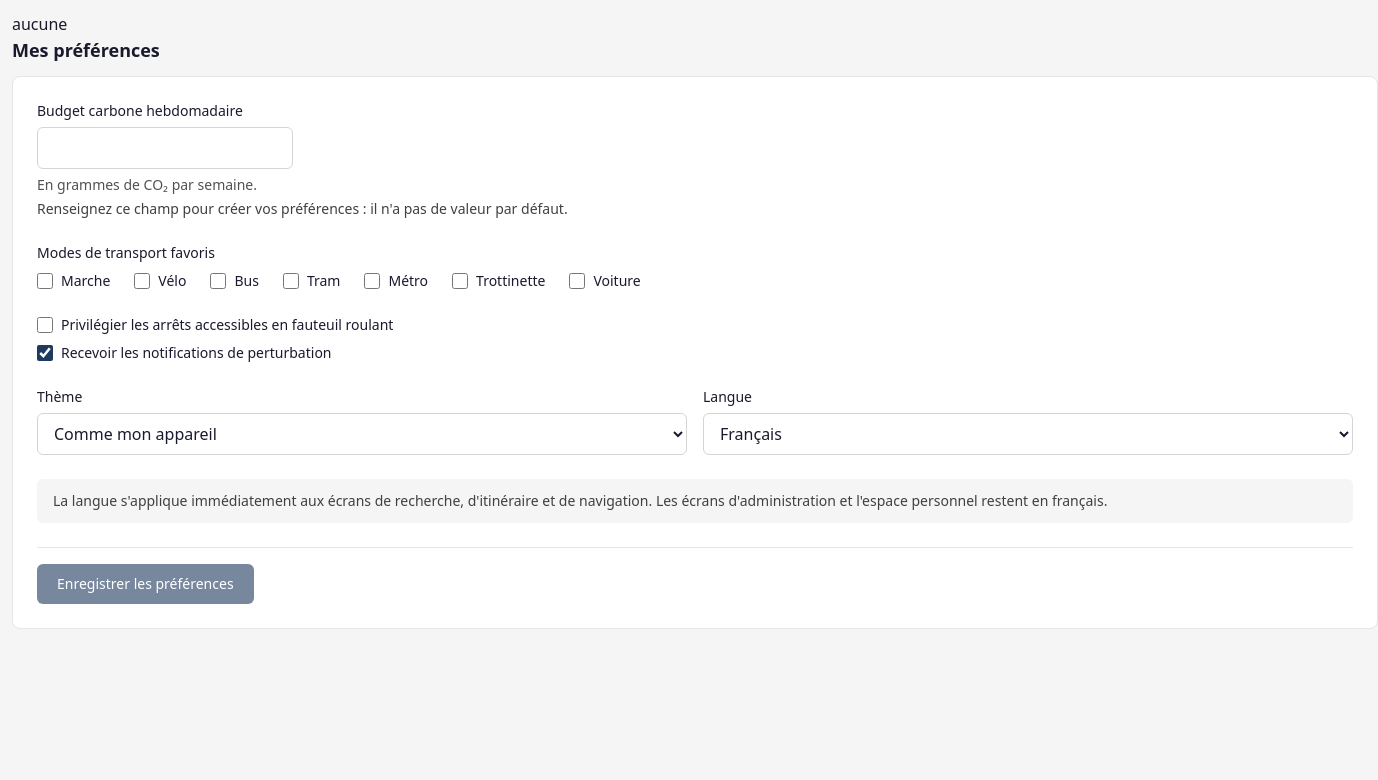
Test: Préférences › enregistrement › réaffiche ce que le SERVEUR a retenu
Type "4200" into the number field labelled "Budget carbone hebdomadaire" at x=165, y=148, box [37, 127, 293, 169]
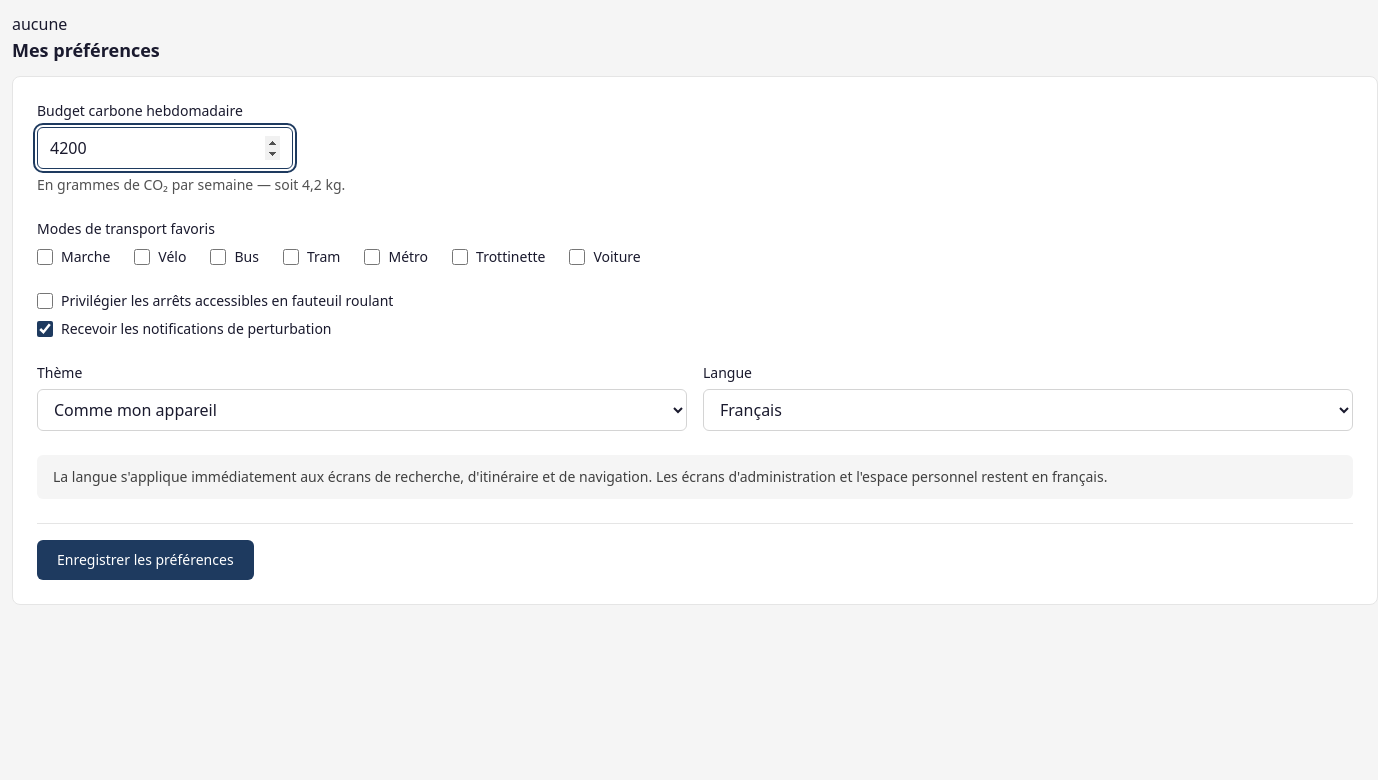
Click the button "Enregistrer les préférences" at x=145, y=560, box [37, 540, 254, 580]
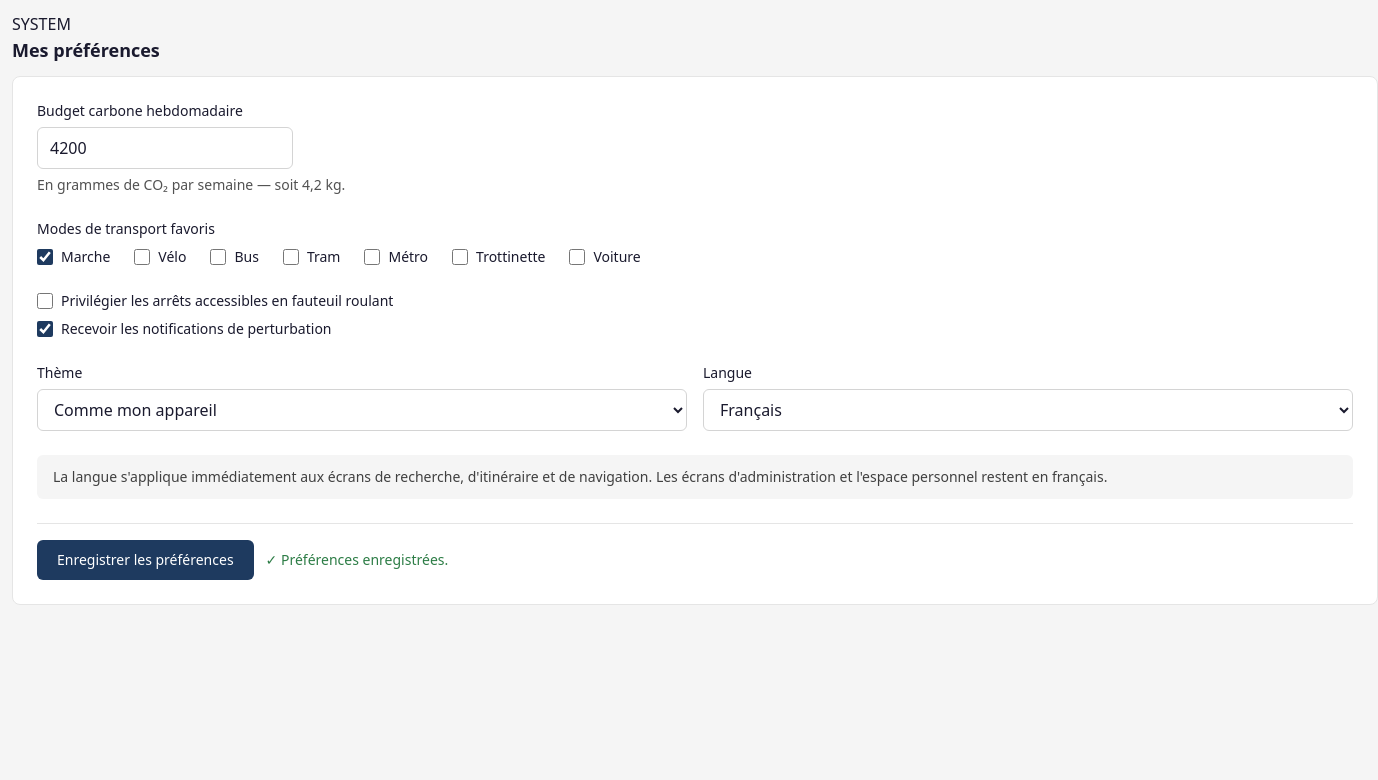
Check: the checkbox labelled "Marche" is checked, box [37, 249, 53, 265]
